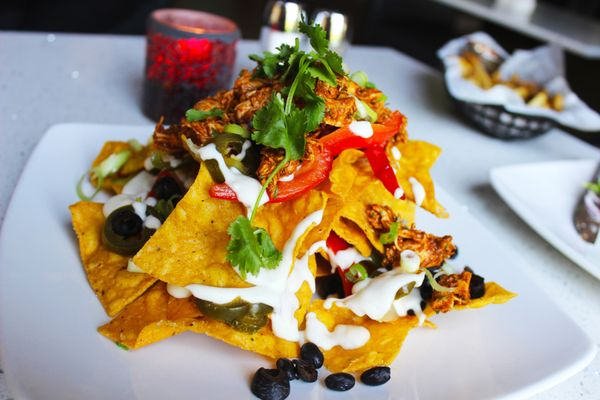pizza: (143, 6, 241, 124)
